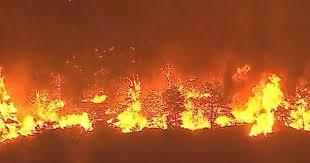fire: (0, 61, 306, 140)
